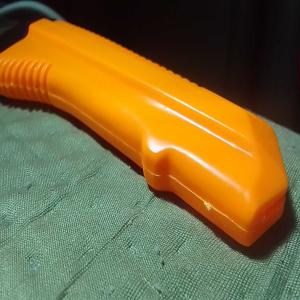estilete: (0, 16, 290, 248)
